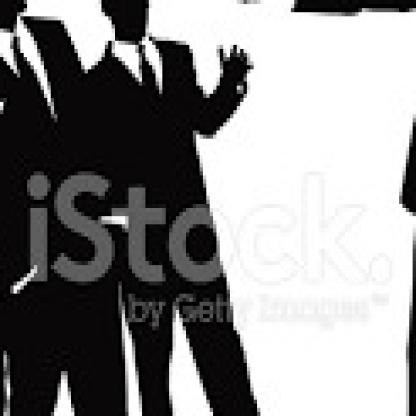gun: (169, 0, 288, 17)
